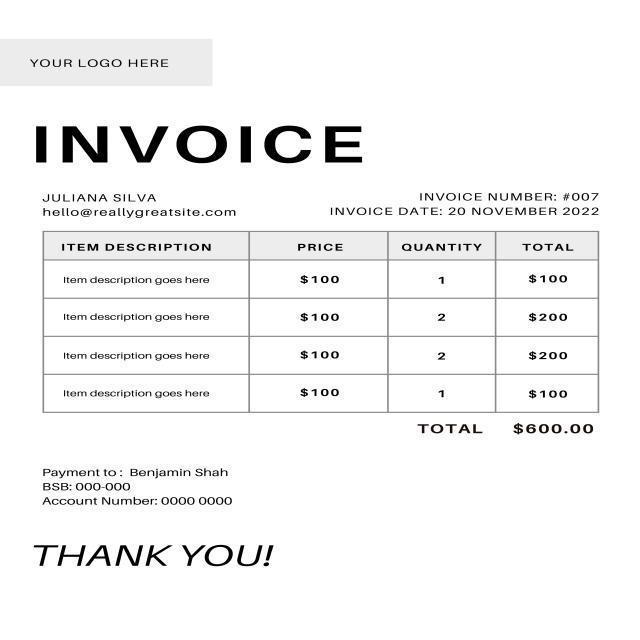ROI: (36, 226, 604, 404), (31, 107, 371, 170), (34, 452, 263, 518), (29, 531, 297, 581), (324, 186, 608, 225), (33, 182, 251, 224), (14, 41, 198, 82), (411, 411, 610, 445)
